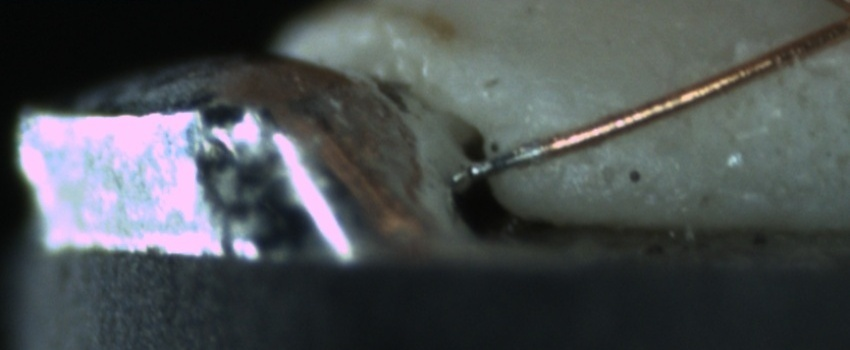TS: (456, 142, 546, 183)
TTCW: (450, 132, 570, 183)
